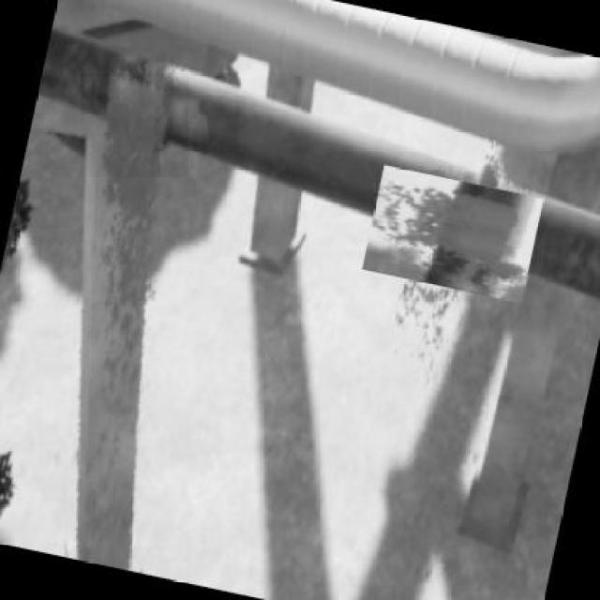gas: (82, 73, 189, 177)
